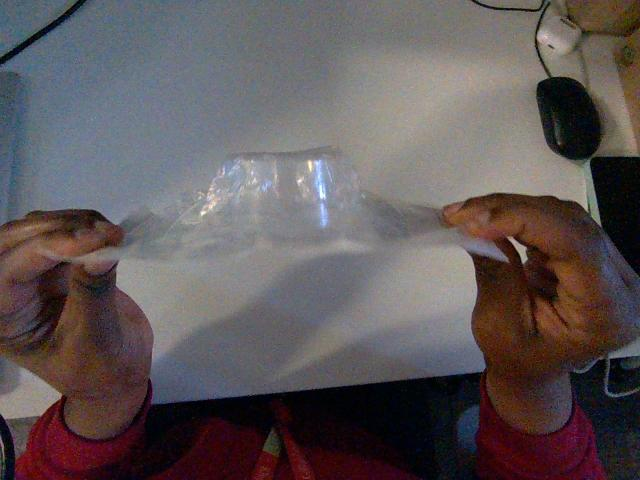gallipot: (98, 147, 504, 259)
